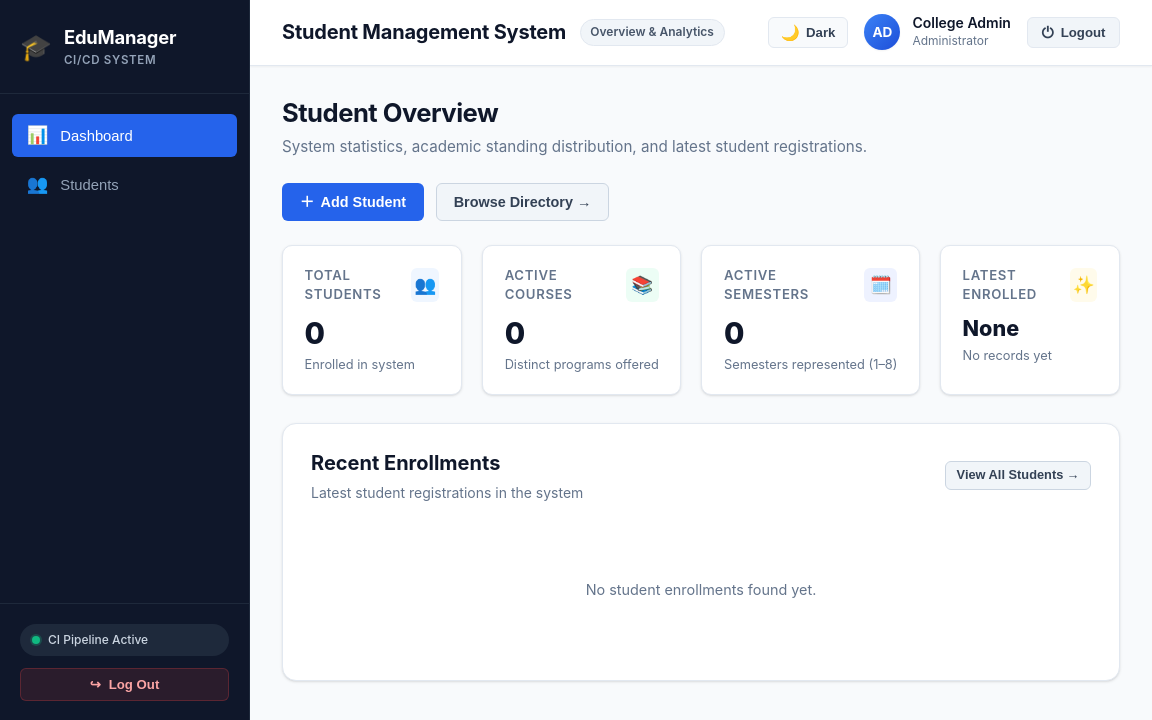
Scenario: Student Management System - Frontend Tests › allows administrator to log out via Header logout button
Click the button "⏻ Logout": (1073, 32) [1027,17,1120,48]
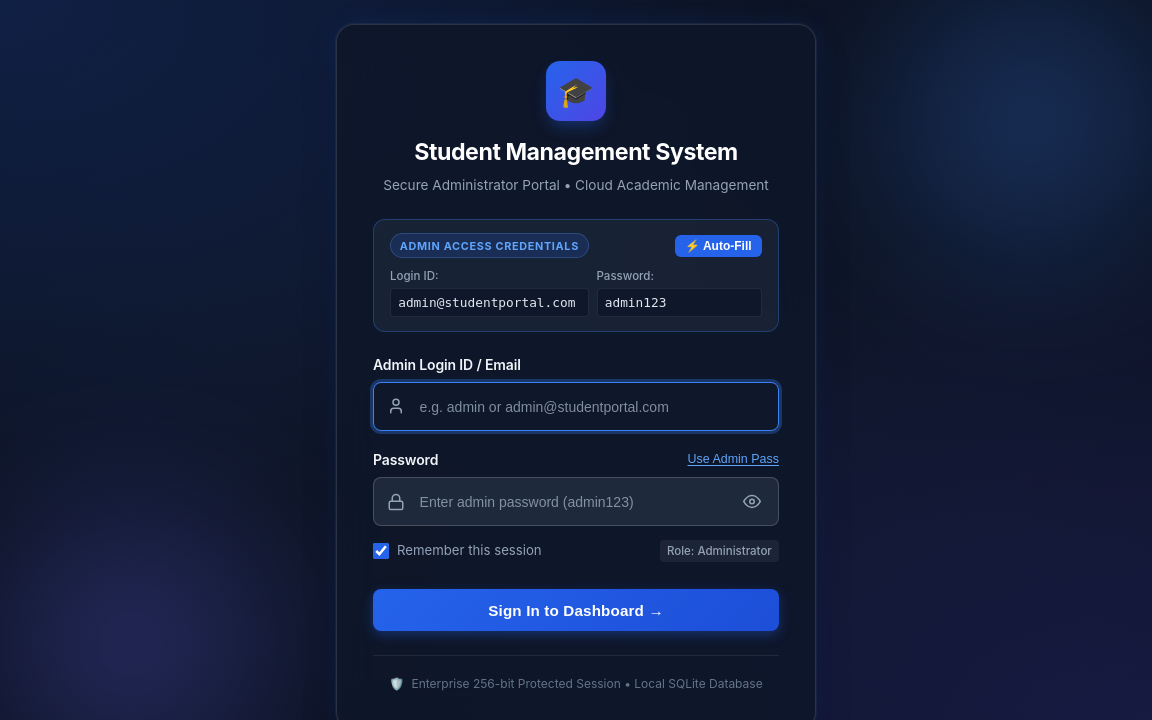
Expected: the heading "Student Management System" is shown, [414,138,738,166]
Now the text "ADMIN ACCESS CREDENTIALS" is shown, box [390,233,589,258]
Now the button "Sign In to Dashboard →" is shown, box [373,589,779,631]
